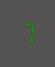seven: (19, 20, 34, 46)
